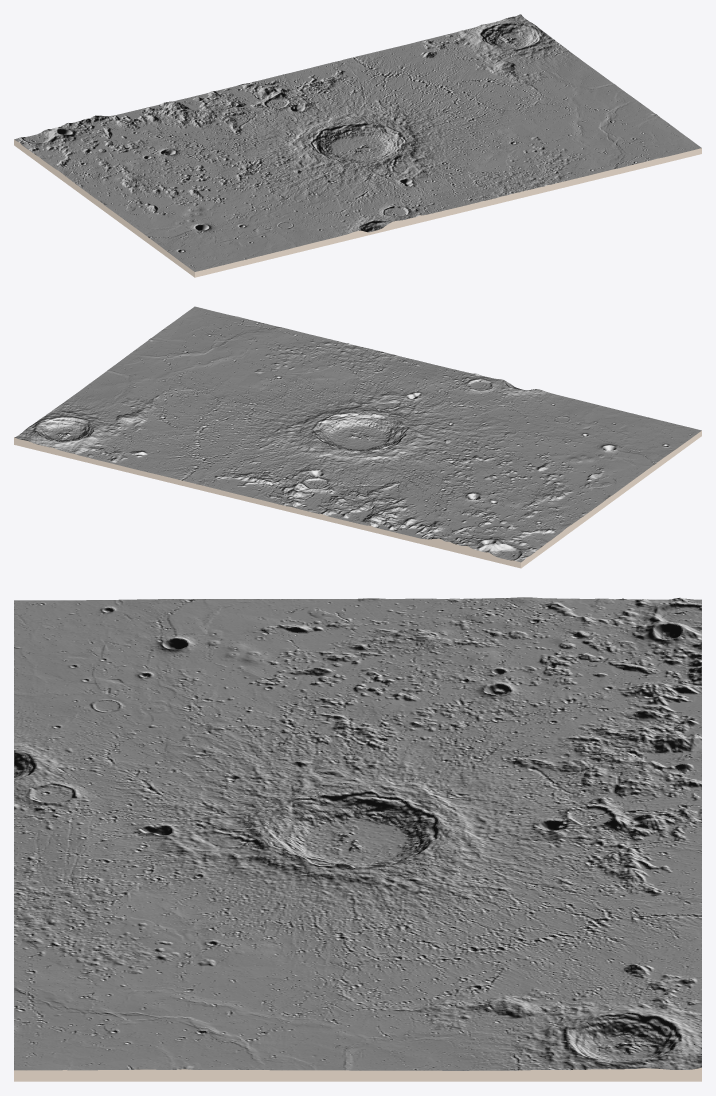
File: copernicus_crater_on_the_moon.glb
The picture shows the model from 3 angles, top to bottom: view 1: azimuth 30°, elevation 25°; view 2: azimuth 150°, elevation 25°; view 3: azimuth 270°, elevation 25°; orthographic projection. The views are drawn at different scales.
Parts seen in each view (by area): view 1: Lunar_LRO_LOLAKaguya_DEMmerge_60N60S_512ppd_6, side_0, side_2; view 2: Lunar_LRO_LOLAKaguya_DEMmerge_60N60S_512ppd_6, side_1, side_2; view 3: Lunar_LRO_LOLAKaguya_DEMmerge_60N60S_512ppd_6, side_3.
Part boxes in pixels (<box>): Lunar_LRO_LOLAKaguya_DEMmerge_60N60S_512ppd_6: <box>14,14,701,271</box>; side_0: <box>195,148,701,277</box>; side_2: <box>14,139,194,277</box>; Lunar_LRO_LOLAKaguya_DEMmerge_60N60S_512ppd_6: <box>14,306,701,562</box>; side_1: <box>14,437,520,568</box>; side_2: <box>521,431,701,568</box>; Lunar_LRO_LOLAKaguya_DEMmerge_60N60S_512ppd_6: <box>14,597,701,1070</box>; side_3: <box>14,1067,701,1081</box>.
Size of the model in its own units: 100 by 2.06 by 61.78.
2 materials, 1 textured.
